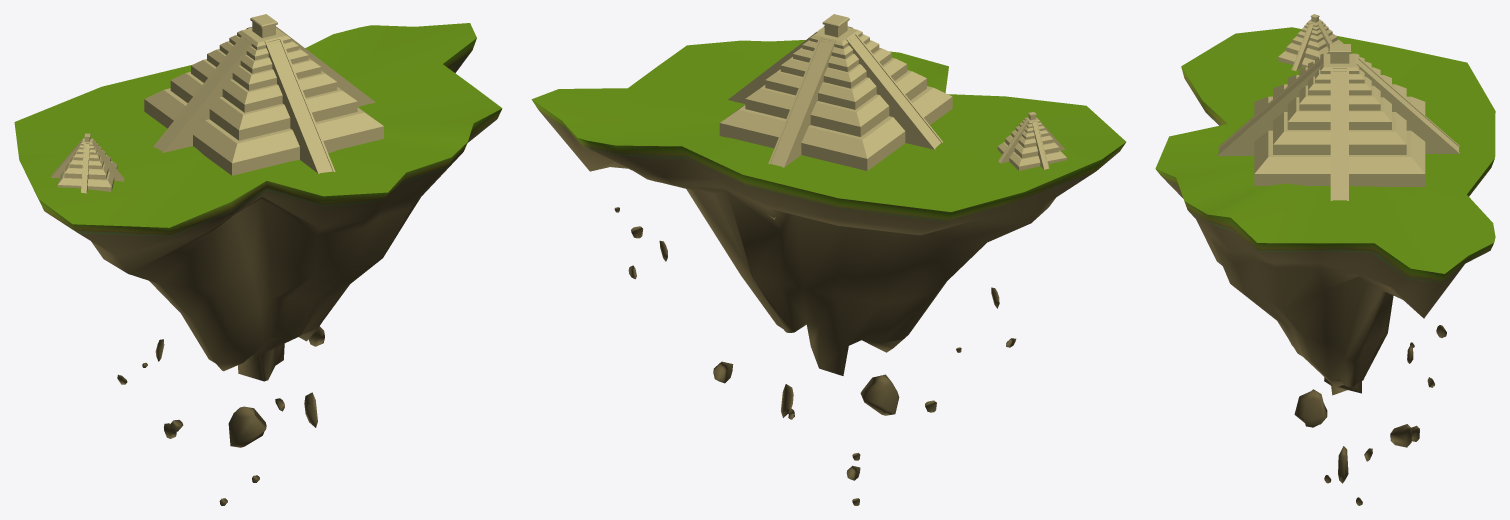
File: TheFall_Island_UVed.FBX
3 views of the same model, side by side, from view 1: azimuth 30°, elevation 25°; view 2: azimuth 150°, elevation 25°; view 3: azimuth 270°, elevation 25° (orthographic). The views are drawn at different scales.
Visible parts, largest first — view 1: polySurface1; view 2: polySurface1; view 3: polySurface1.
Part boxes in pixels (bbox=[...]): polySurface1: bbox=[14, 14, 502, 505]; polySurface1: bbox=[531, 14, 1125, 505]; polySurface1: bbox=[1155, 14, 1495, 505].
Bounding box in the file's own units: 772 × 704 × 459.
